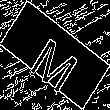M_NE: (25, 21, 85, 89)
